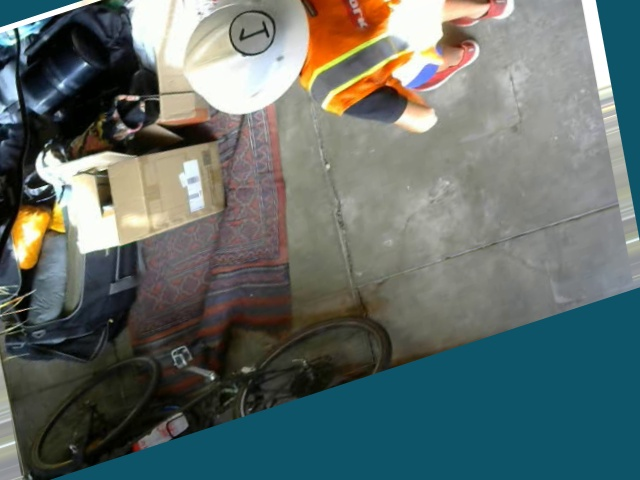one: (227, 2, 277, 59)
